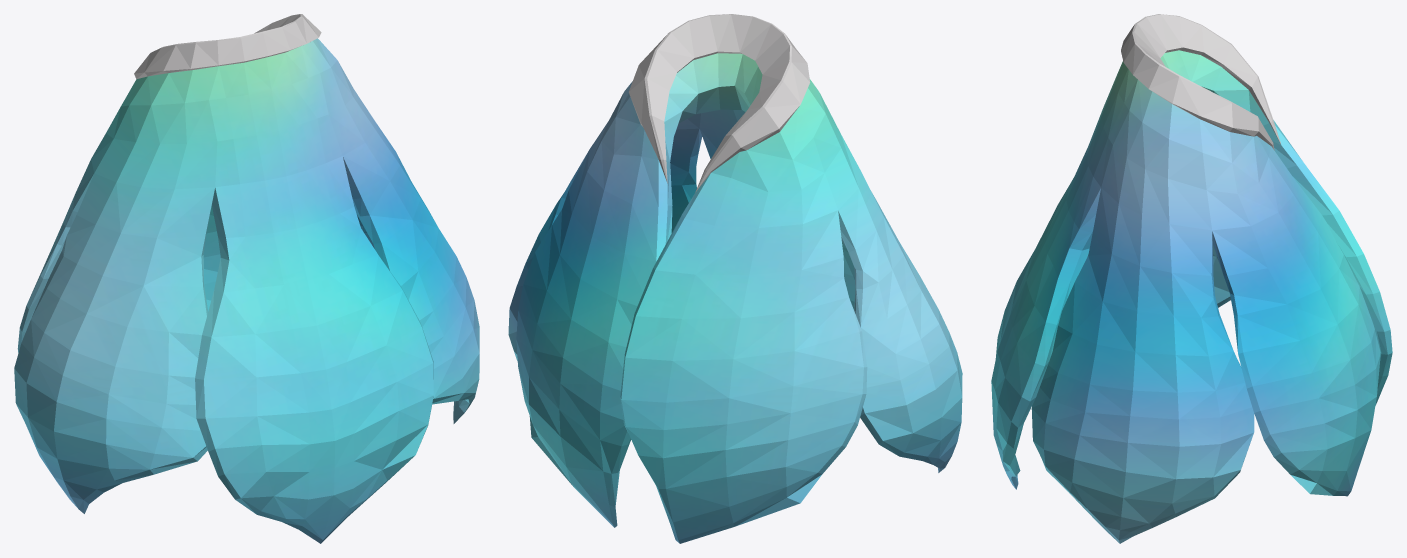
File: CharSkyKid_Wing_AP21Deer.glb
3 views of the same model, side by side, from view 1: azimuth 30°, elevation 25°; view 2: azimuth 150°, elevation 25°; view 3: azimuth 270°, elevation 25° (orthographic). The views are drawn at different scales.
Parts seen in each view (by area): view 1: CharSkyKid_Wing_AP21Deer; view 2: CharSkyKid_Wing_AP21Deer; view 3: CharSkyKid_Wing_AP21Deer.
Part boxes in pixels (x1=…): CharSkyKid_Wing_AP21Deer: x1=14, y1=14, x2=479, y2=543; CharSkyKid_Wing_AP21Deer: x1=508, y1=14, x2=962, y2=543; CharSkyKid_Wing_AP21Deer: x1=991, y1=14, x2=1392, y2=543.
Bounding box in the file's own units: 7.34 × 7.52 × 5.96.
Materials: 1 (1 with a texture image).
